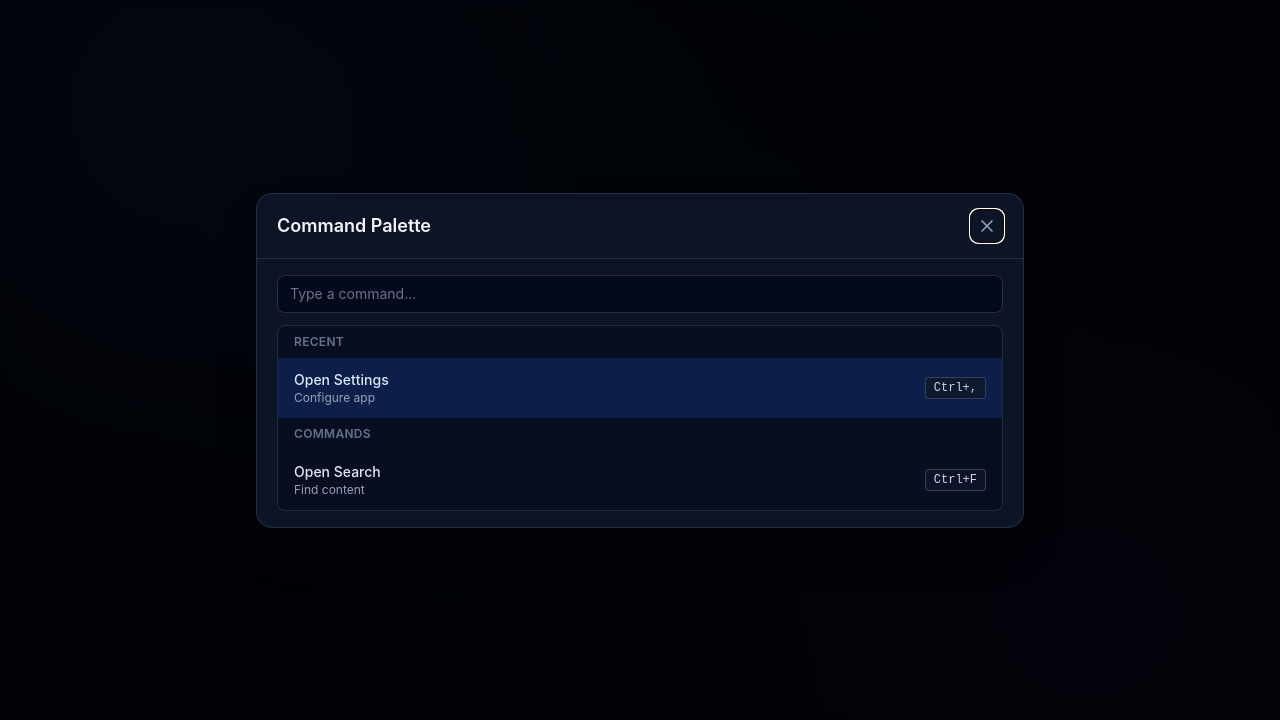
Test: CommandPalette › hides the recent section while a search query is active
The image size is (1280, 720).
Type "settings" into the field labelled "Type a command...".
click(640, 294); type("settings")  # box top-left (277, 274), bottom-right (1003, 312)
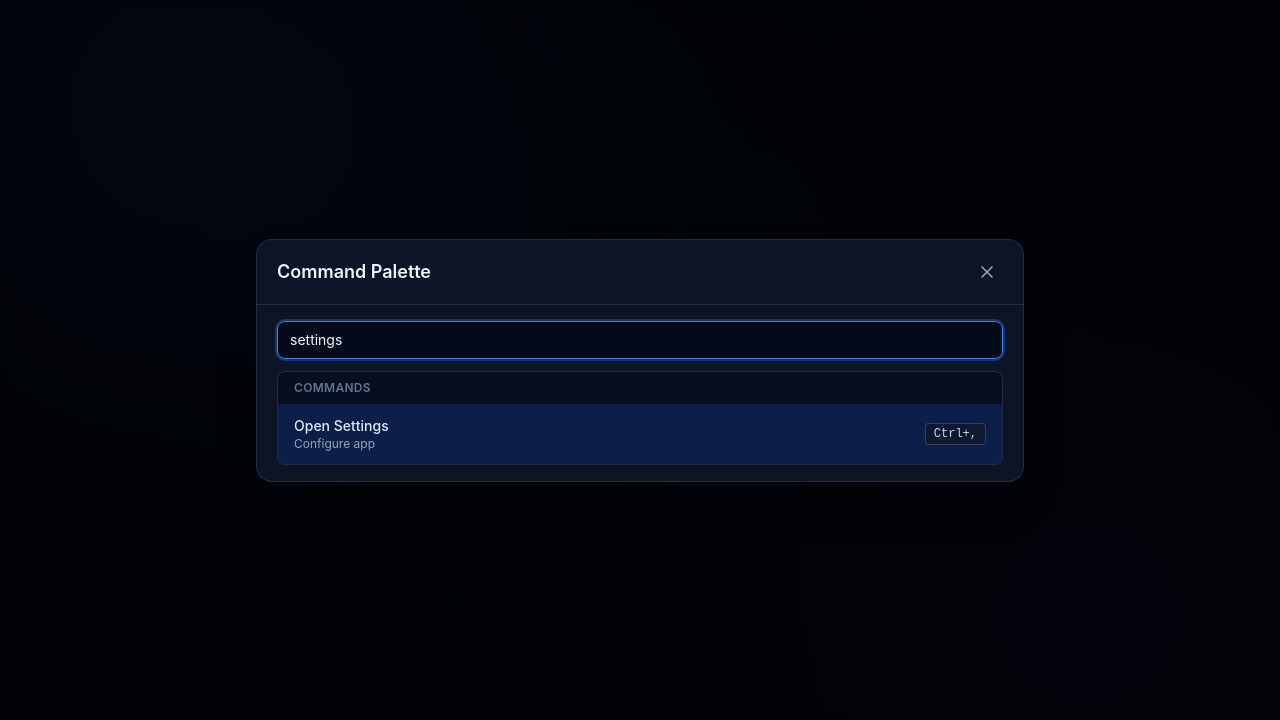
expect the text "Recent" is gone: met
